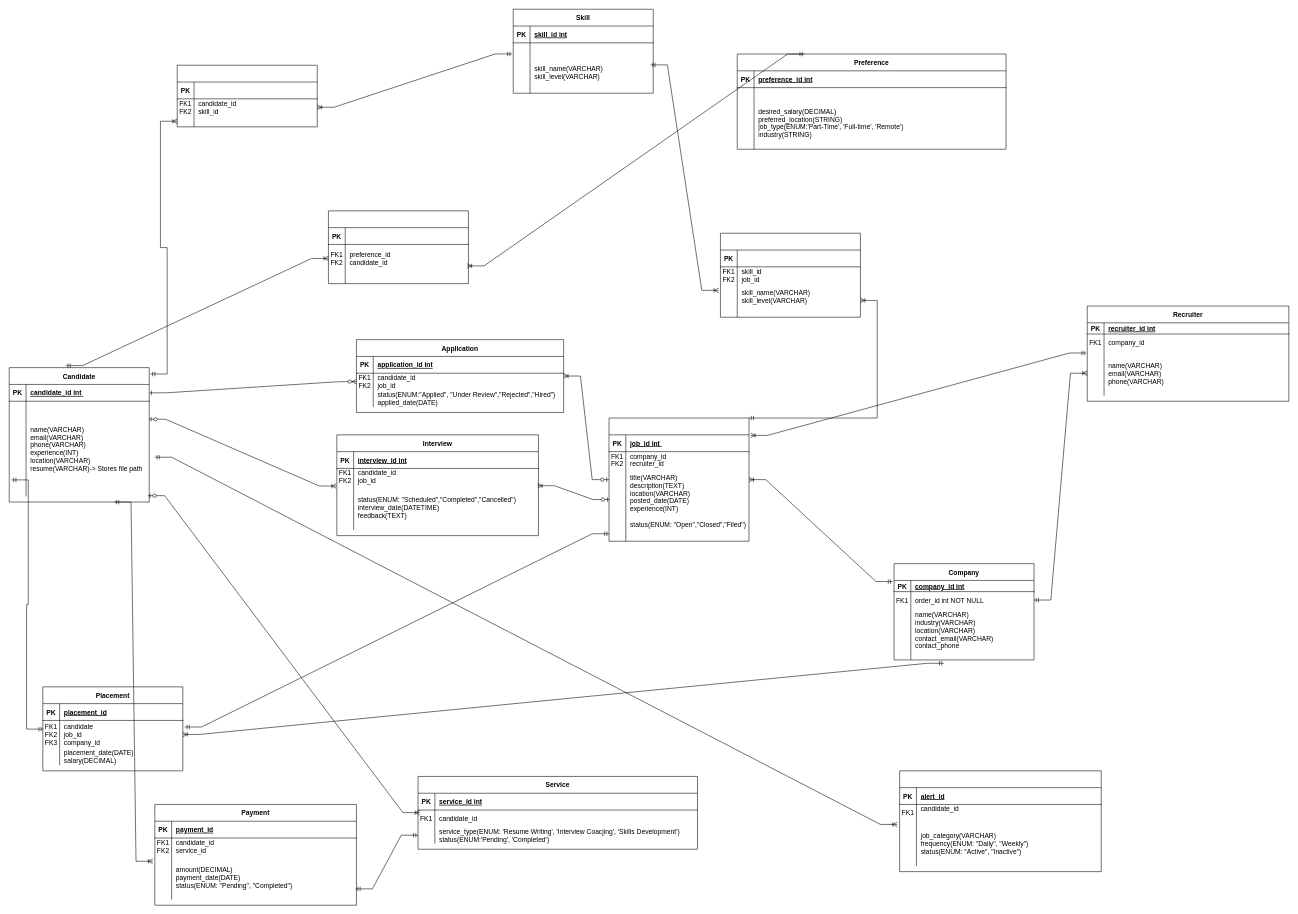
This 1298x914 diagram has some shape labels left out. Each missing label, with the box of its shape:
Job_alert: (899, 770, 1101, 872)
Job_Listing: (608, 417, 749, 541)
Preference&Candidate: (328, 210, 468, 284)
Skill&Candidate: (177, 65, 317, 127)
Skill&Listing: (720, 233, 860, 317)
